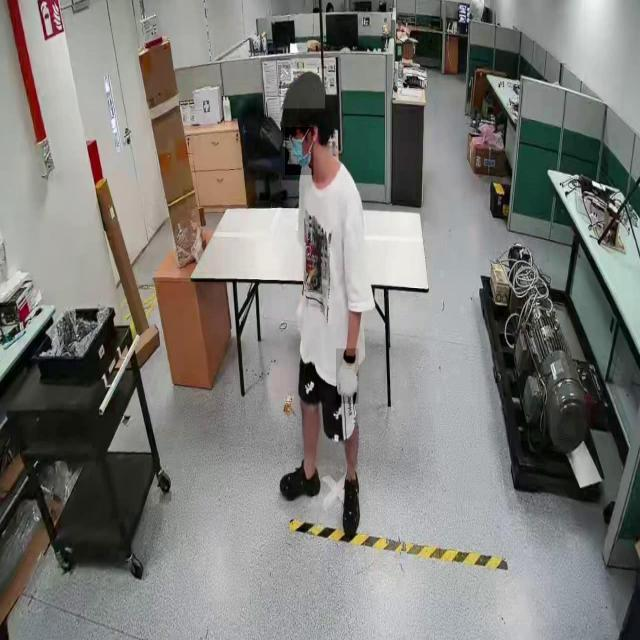face_mask: (285, 127, 313, 175)
hand_glove: (336, 348, 359, 404)
head_nohelmet: (281, 68, 325, 110)
person: (268, 70, 376, 534)
shoes: (278, 458, 324, 503), (338, 468, 365, 534)
